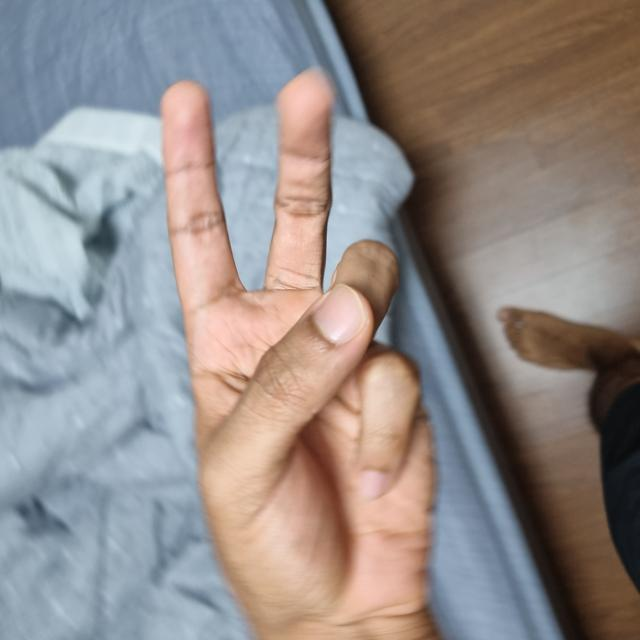Scissors: (0, 161, 568, 440)
